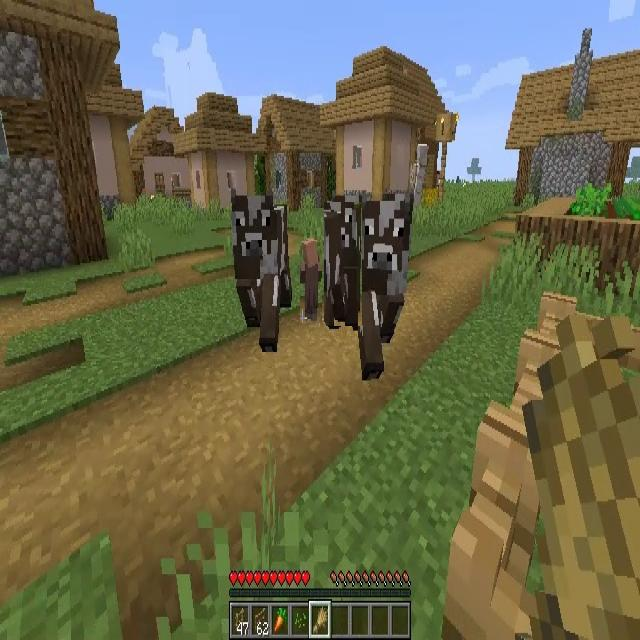cow: (342, 202, 411, 374), (228, 198, 291, 348), (324, 202, 362, 326)
people: (300, 242, 322, 324), (410, 145, 430, 204)
